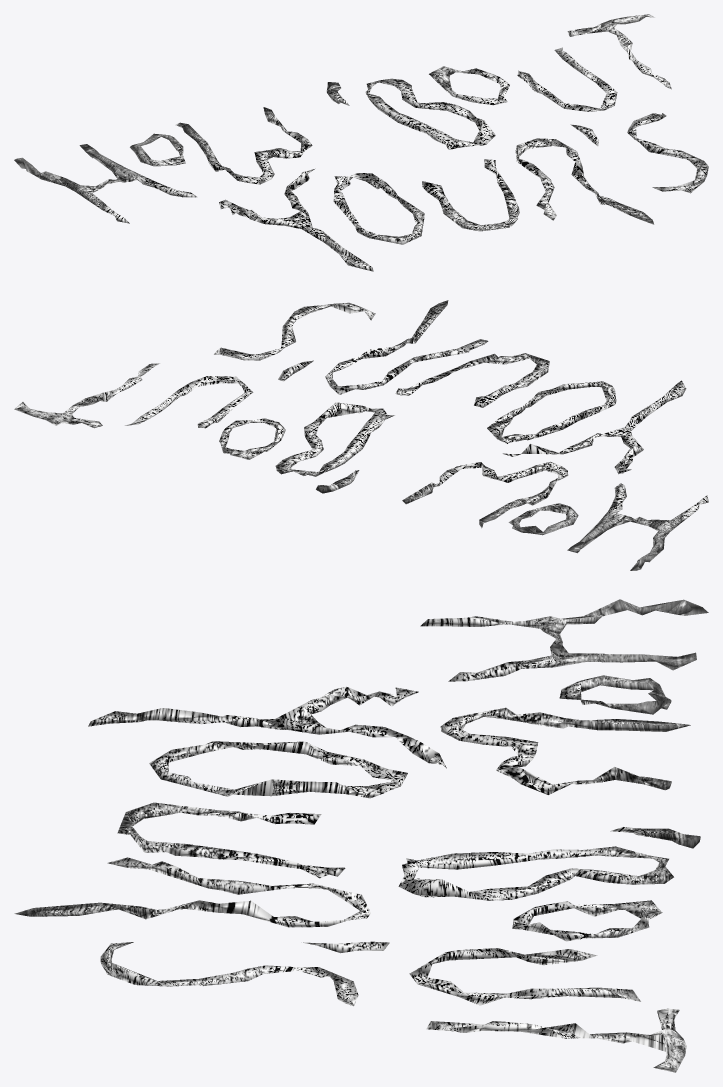
File: 12_HOW_BOUT_YOURS.glb
3 renders of one model, top to bottom at view 1: azimuth 30°, elevation 25°; view 2: azimuth 150°, elevation 25°; view 3: azimuth 270°, elevation 25°, orthographic. The views are drawn at different scales.
Visible parts, largest first — view 1: 12_HOW_BOUT_YOURS; view 2: 12_HOW_BOUT_YOURS; view 3: 12_HOW_BOUT_YOURS.
Boxes of the visible parts, x1,y1,x2,y2 form: 12_HOW_BOUT_YOURS: (14,14,708,271); 12_HOW_BOUT_YOURS: (14,300,708,570); 12_HOW_BOUT_YOURS: (14,599,708,1072).
Bounding box in the file's own units: 4.32 × 0.1154 × 2.73.
Materials: 1 (1 with a texture image).
